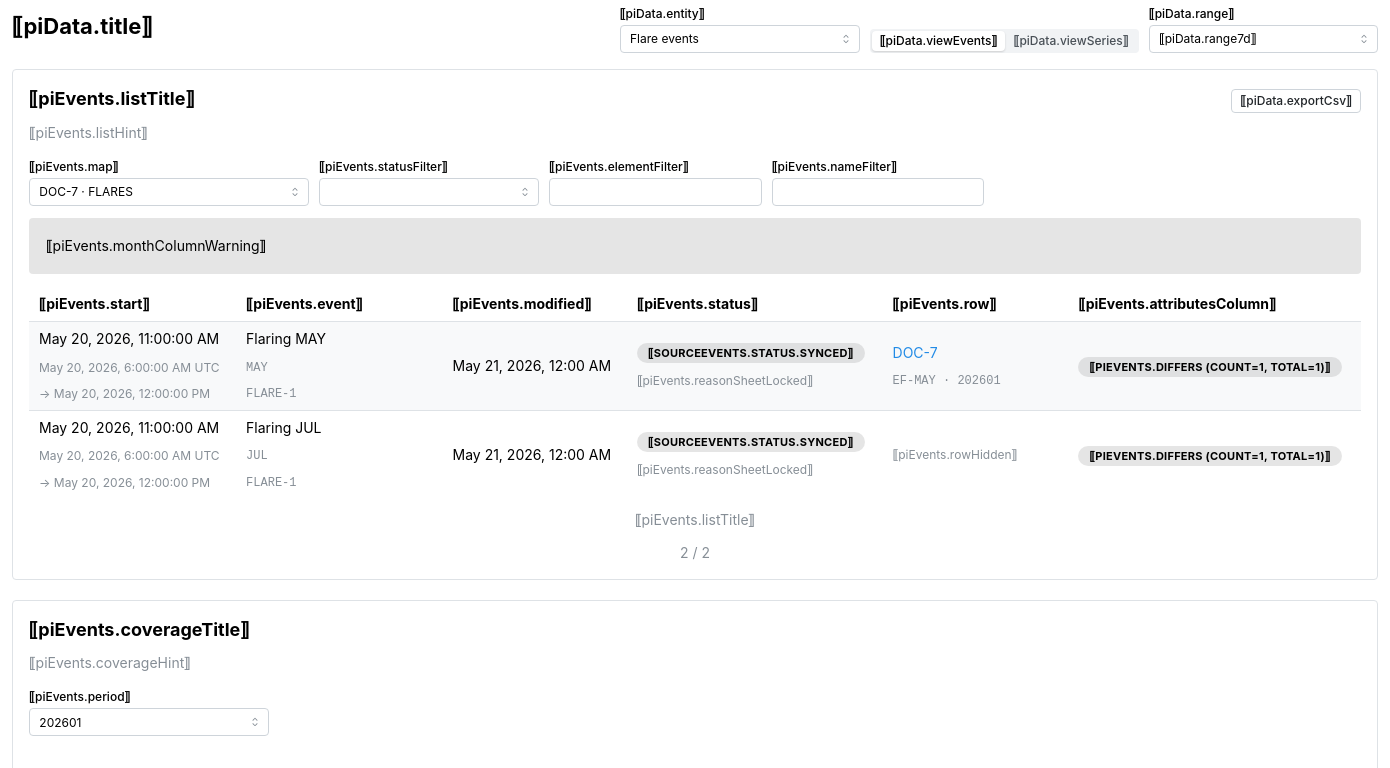
Scenario: PiDataPage — події PI (D-465) › шаблон подій відкривається на подіях: рядок, прихований документ, атрибути з причиною, журнали
Expected: the link "DOC-7" is shown, [893,344,938,361]
Expected: the text "⟦piEvents.rowHidden⟧" is shown, [893,447,1017,462]
Step 1. Click the text "Flaring MAY" → (286,339), box [246,330,326,347]
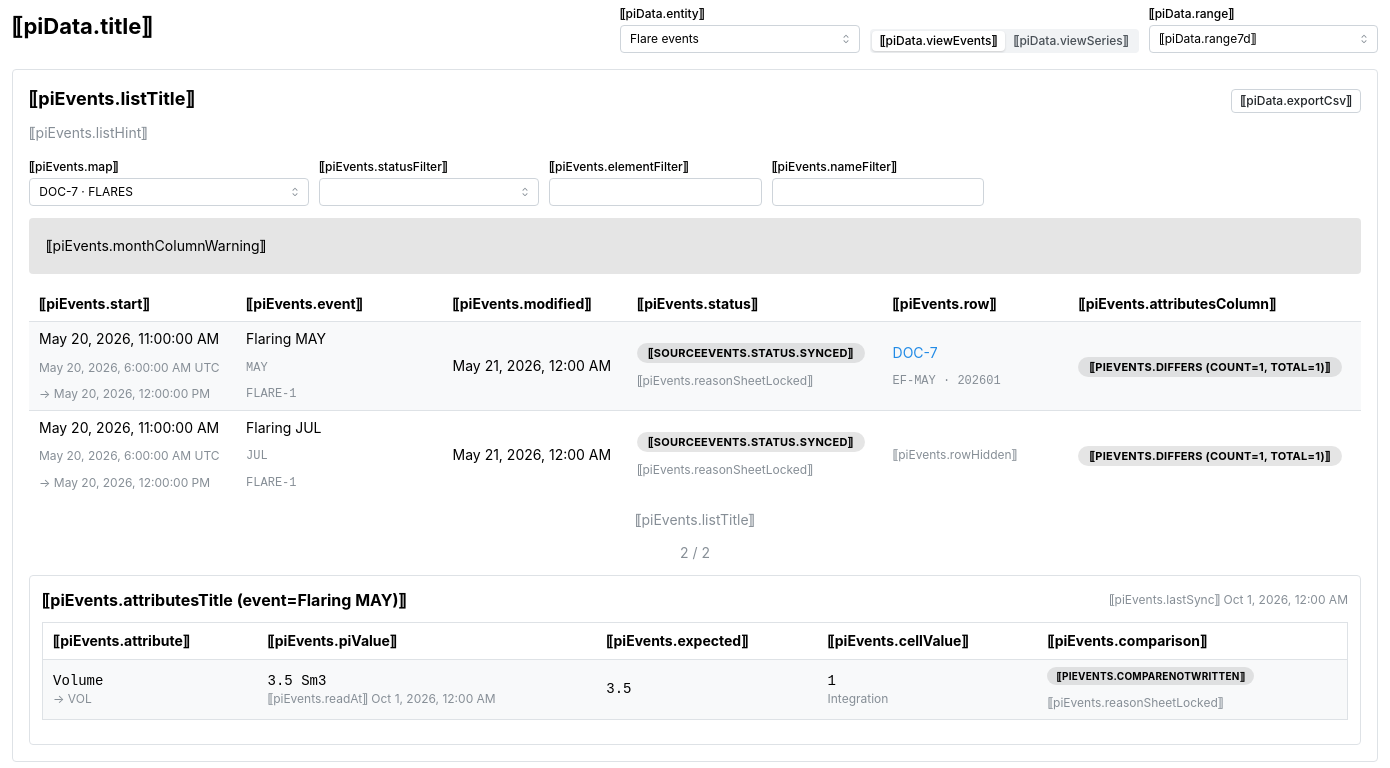
Now the heading "⟦piEvents.attributesTitle (event=Flaring MAY)⟧" is shown, box [42,588,407,612]
Now the element showing "⟦piEvents.compareNotWritten⟧" is shown, box [1048,667,1254,685]
Now the text "3.5 Sm3" is shown, box [268,673,326,689]
